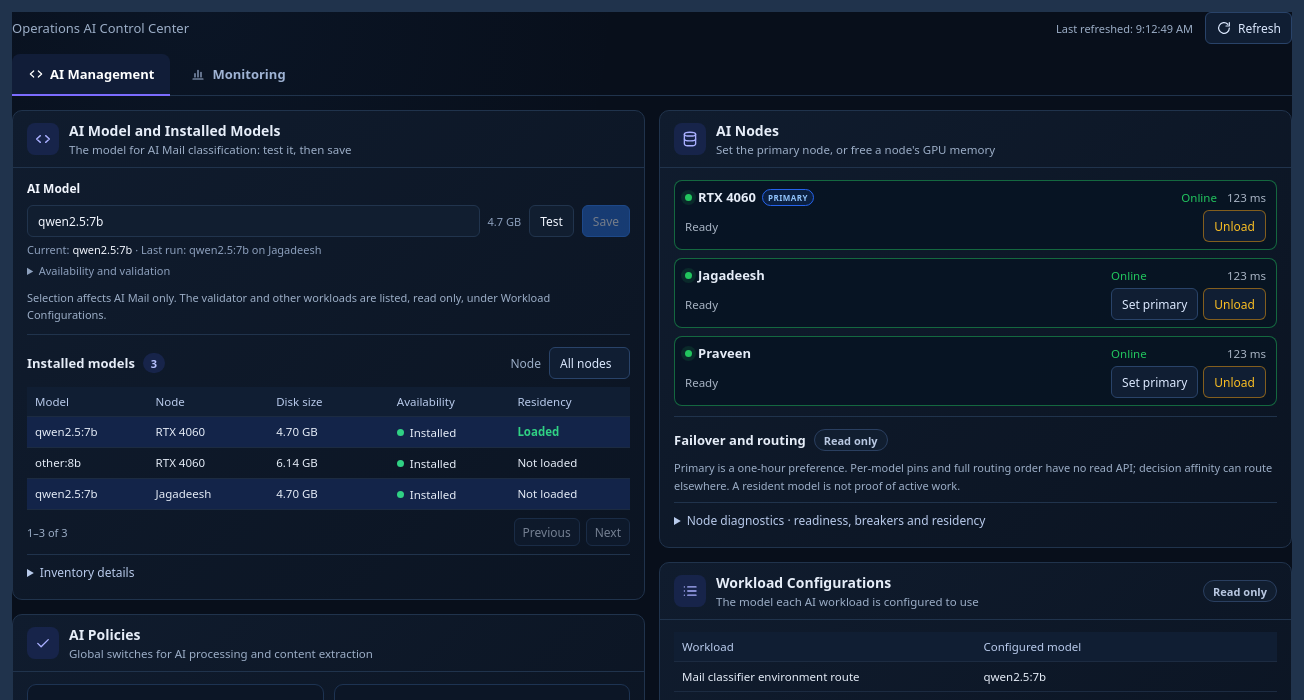
Test: AI Controls: two tabs › keeps the prior selection on failed model test and Save disabled
The width and height of the screenshot is (1304, 700).
Expected: the text "Last run: qwen2.5:7b on Jagadeesh" is shown, [141, 242, 322, 257]
Click the button with aria-label "Test model & failover" at (551, 221), box [529, 205, 574, 237]
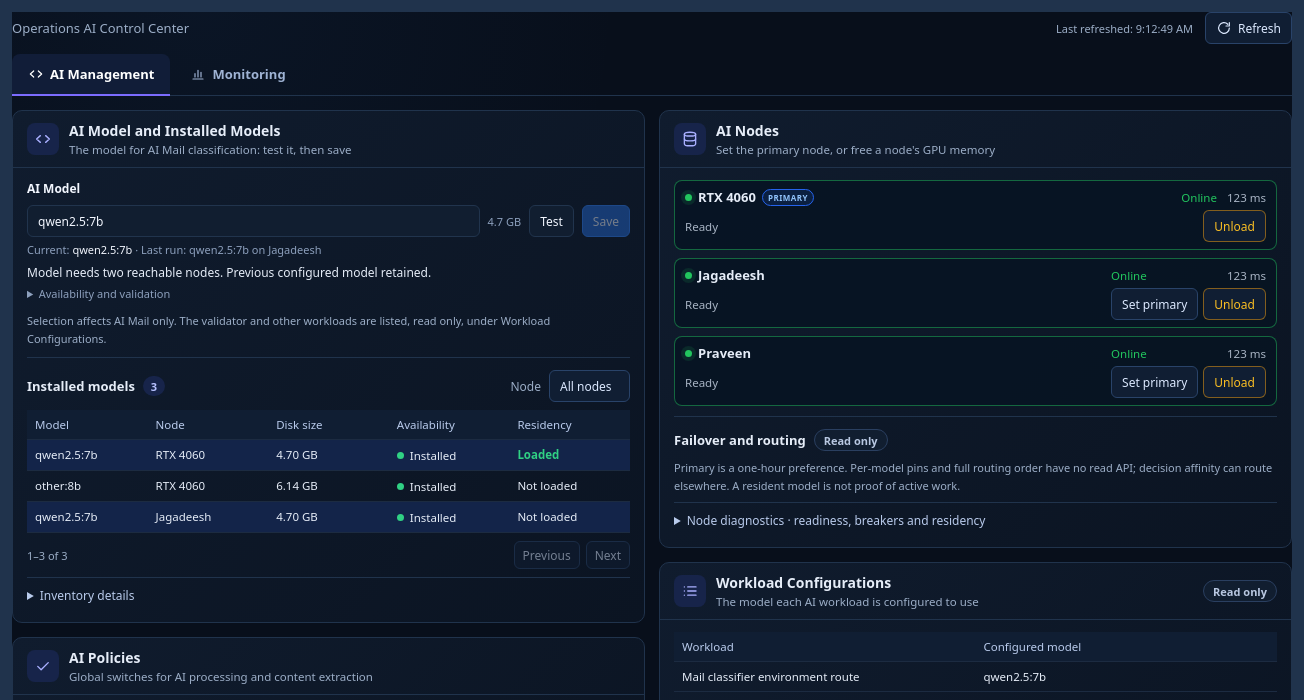
Expected: the button with aria-label "Save AI Mail model" is disabled, [582, 205, 630, 237]
Expected: the text "Model needs two reachable nodes. Previous configured model retained." is shown, [27, 264, 431, 281]
